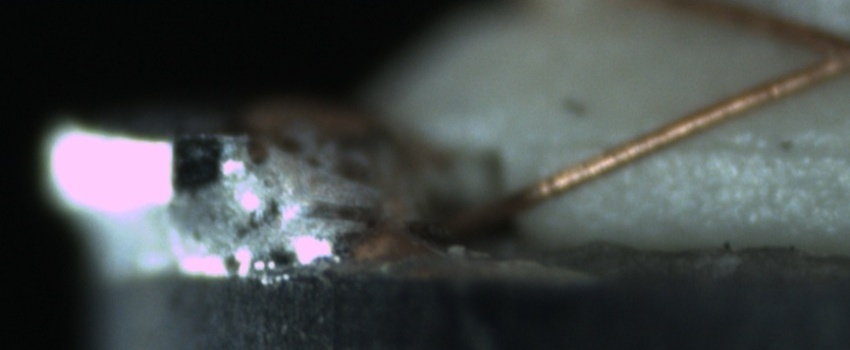CL: (795, 18, 848, 80)
DL: (536, 115, 848, 179)
